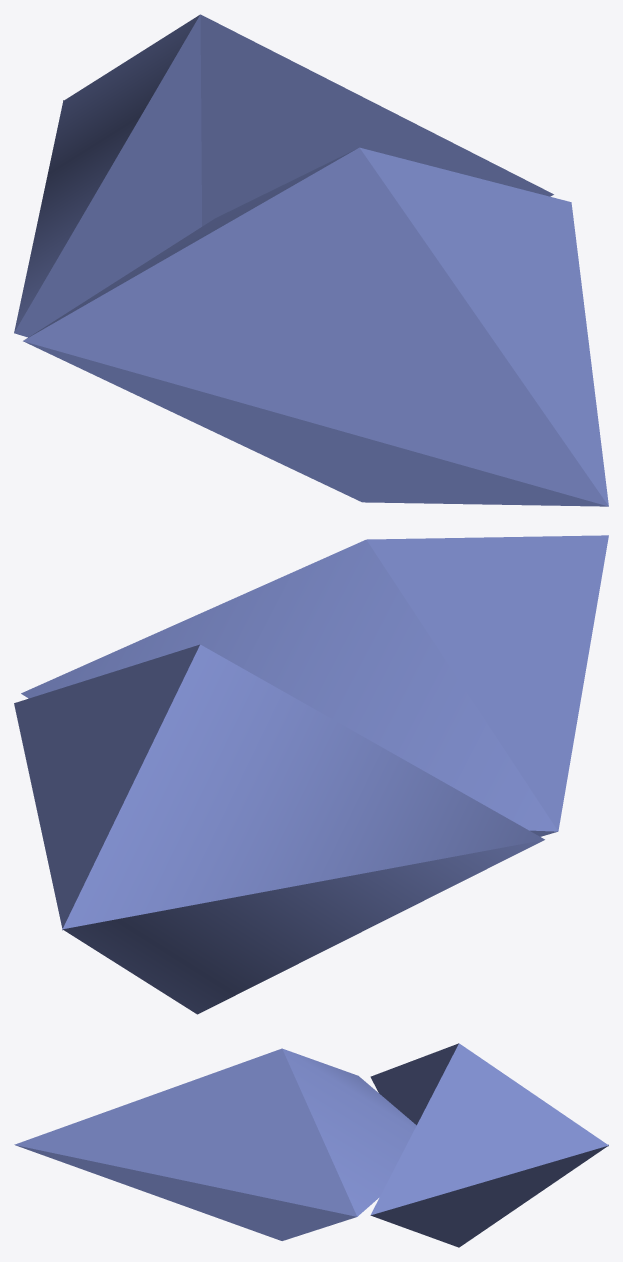
The model's file is ethereum.glb.
The picture shows the model from 3 angles, top to bottom: view 1: azimuth 30°, elevation 25°; view 2: azimuth 150°, elevation 25°; view 3: azimuth 270°, elevation 25°; orthographic projection. The views are drawn at different scales.
Parts seen in each view (by area): view 1: Pyramid_1_C_Silver_Base_0; view 2: Pyramid_1_C_Silver_Base_0; view 3: Pyramid_1_C_Silver_Base_0.
Part boxes in pixels (left/top/right/bottom): Pyramid_1_C_Silver_Base_0: left=14, top=14, right=608, bottom=506; Pyramid_1_C_Silver_Base_0: left=14, top=535, right=608, bottom=1014; Pyramid_1_C_Silver_Base_0: left=14, top=1043, right=608, bottom=1247.
Size of the model in its own units: 0.4507 by 0.2965 by 0.7848.
